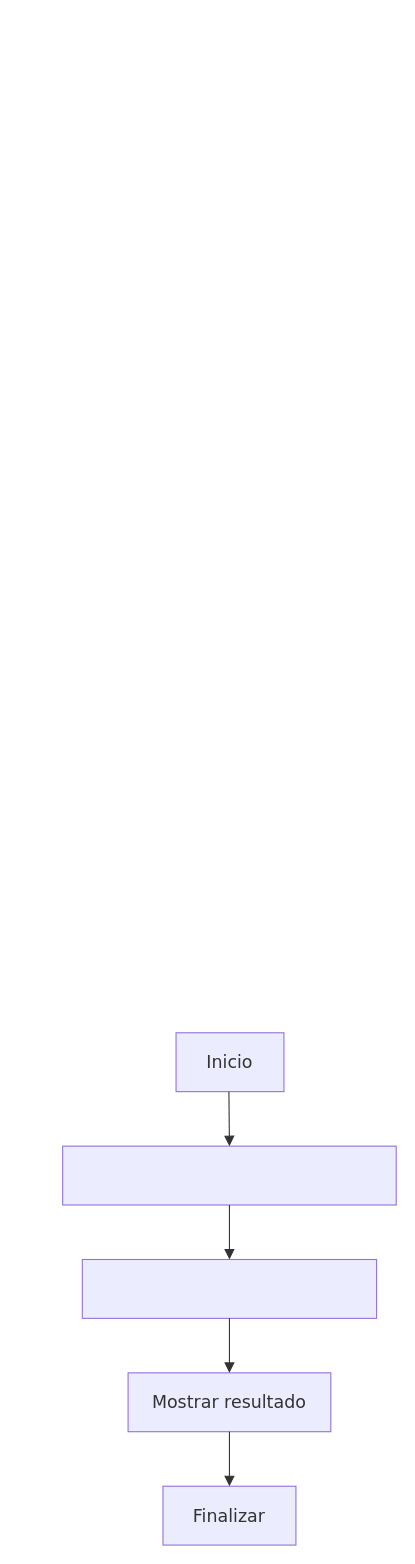
Some shapes in this 415 by 1564 pixel diagram are drawn without their labels. The centre of each missing label's shape, as x and y in pixels:
Generar contraseña aleatoria: (229,1288)
Solicitar longitud de la contraseña: (229,1175)
